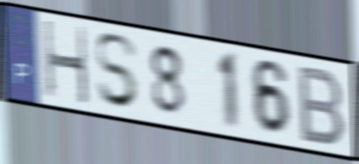1: (216, 48, 244, 135)
6: (248, 57, 294, 139)
8: (148, 42, 190, 118)
B: (297, 63, 348, 149)
H: (41, 17, 91, 108)
S: (92, 30, 141, 111)
